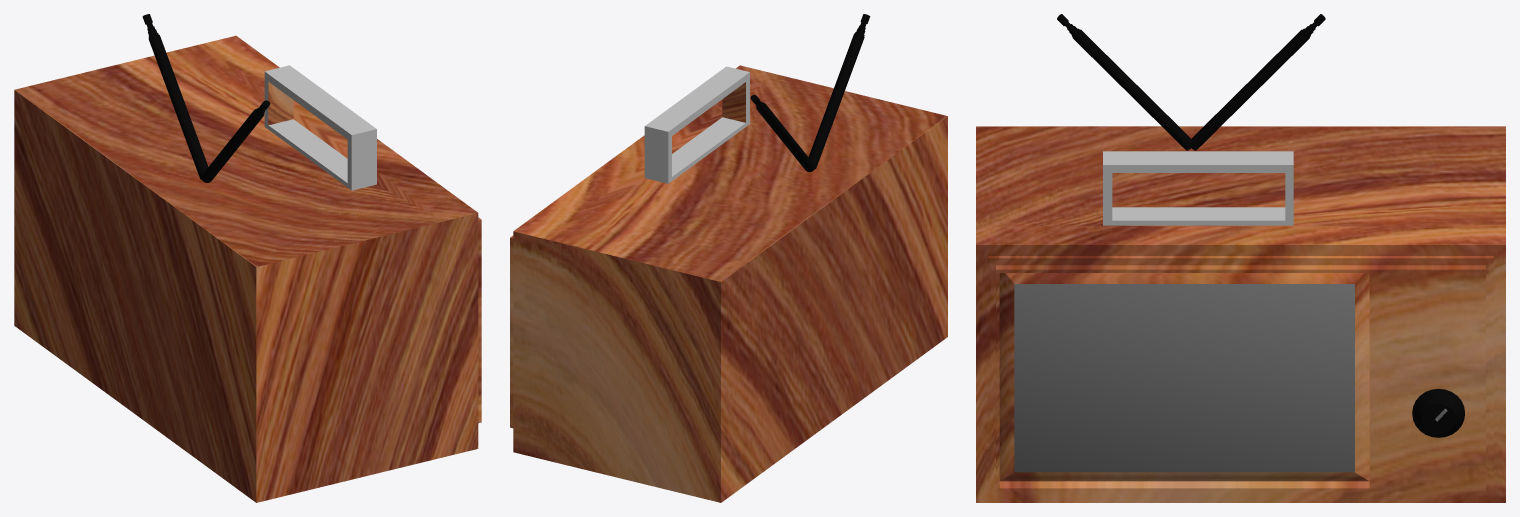
Rendered from tele (2).fbx.
3 renders of one model, left to right at view 1: azimuth 30°, elevation 25°; view 2: azimuth 150°, elevation 25°; view 3: azimuth 270°, elevation 25°, orthographic. The views are drawn at different scales.
Parts seen in each view (by area): view 1: tele (2); view 2: tele (2); view 3: tele (2).
Boxes of the visible parts, left/top/right/bottom form: tele (2): left=14, top=14, right=481, bottom=502; tele (2): left=510, top=14, right=947, bottom=502; tele (2): left=976, top=14, right=1505, bottom=502.
Size of the model in its own units: 59.65 by 82.81 by 101.
